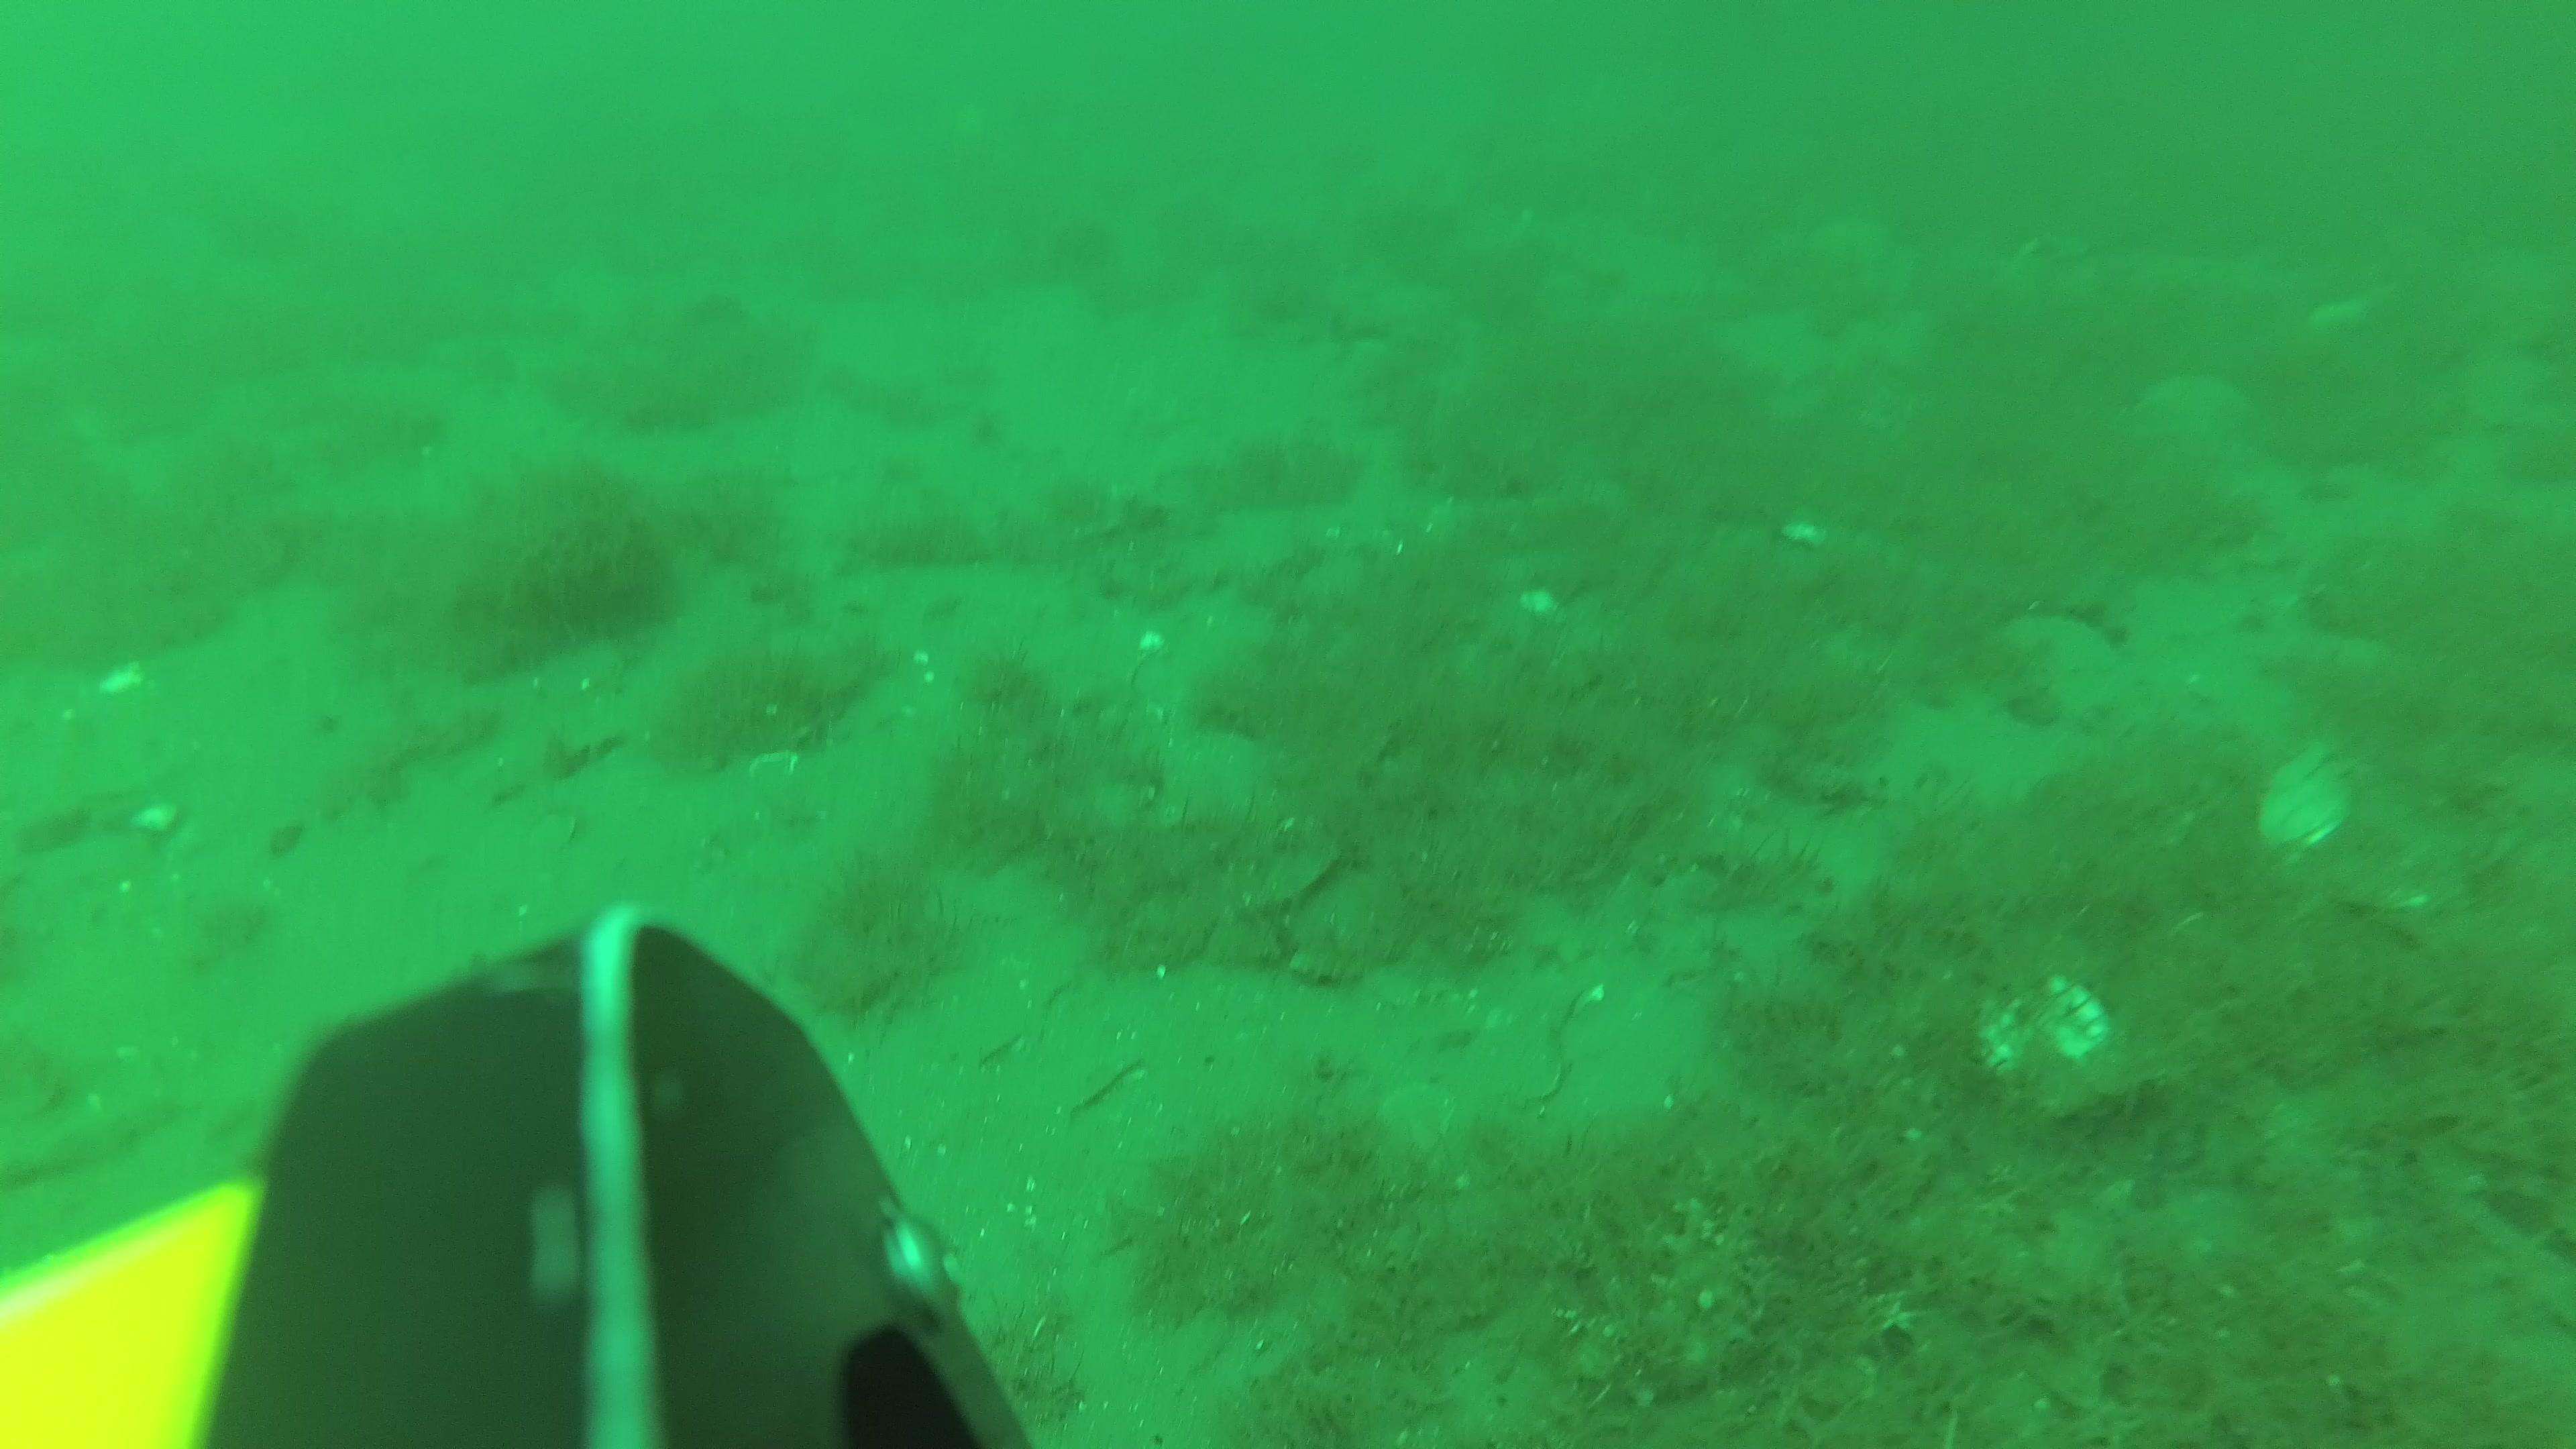scallop: (1980, 975, 2111, 1122), (1994, 609, 2123, 717), (2254, 752, 2353, 855), (538, 635, 625, 704), (752, 747, 801, 791)
starfish: (2135, 372, 2250, 446)
